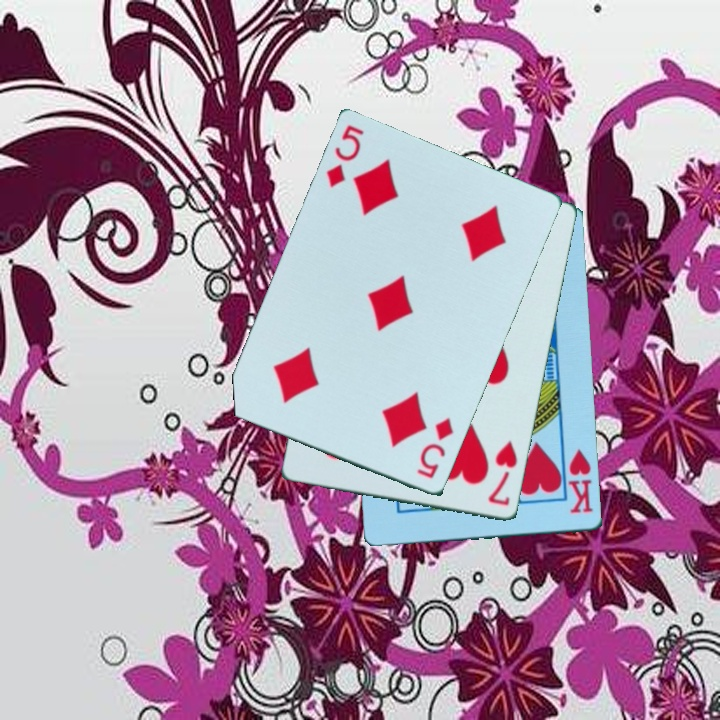5d: (323, 122, 367, 191), (413, 414, 457, 482)
7h: (484, 438, 521, 509)
Kh: (565, 446, 597, 516)
